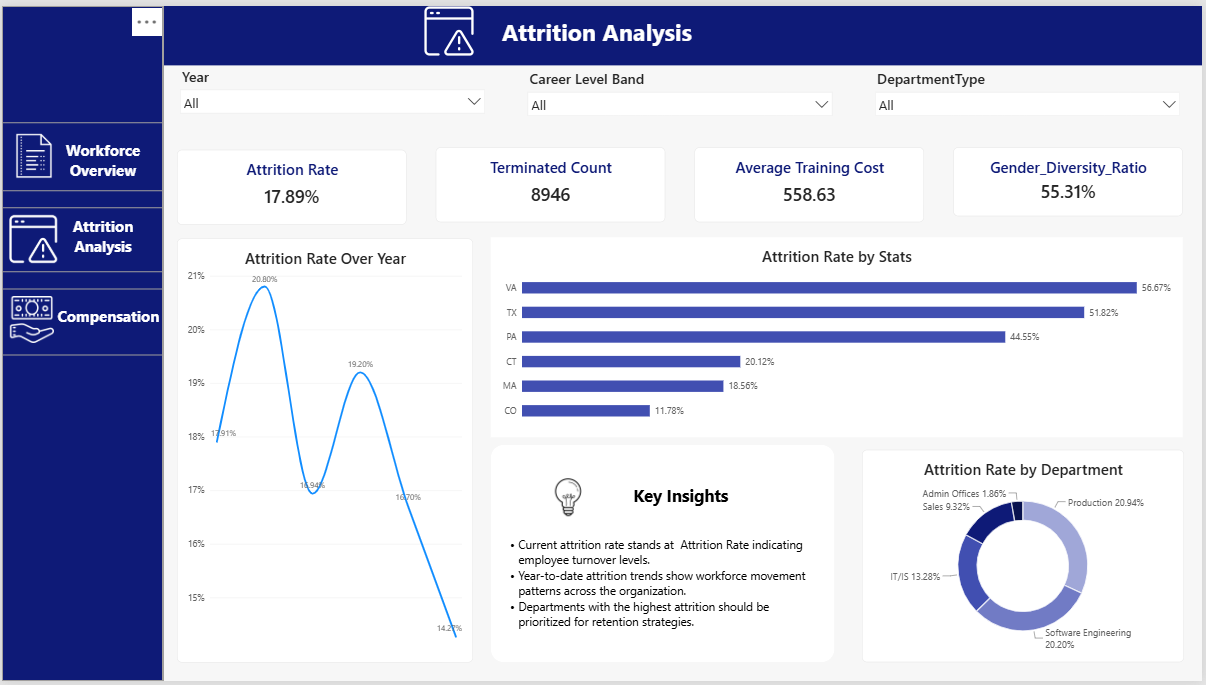

The dashboard page shown, as its layout file describes it:
{"tool":"powerbi","page":{"name":"Attrition Analysis","canvas":[1920,1080],"ordinal":1},"visuals":[{"type":"shape","box":[0,0,1920,95],"z":0,"group":"g1"},{"type":"shape","box":[0,0,257.5,1080],"z":0,"group":"g2"},{"type":"group","id":"g1","title":"top bar","box":[0,0,1920,95],"z":0},{"type":"textbox","box":[742,15,420,65],"z":0,"group":"g3"},{"type":"image","box":[5,190,90,95],"z":0,"group":"g4"},{"type":"image","box":[0,333.7,100,77.5],"z":0,"group":"g6"},{"type":"image","box":[0,465,91.6,75],"z":0,"group":"g5"},{"type":"group","id":"g2","title":"side bar","box":[0,0,260,1080],"z":1000},{"type":"group","id":"g3","title":"Title","box":[647,0,515,80],"z":1000,"group":"g1"},{"type":"image","box":[647,0,135,80],"z":1000,"group":"g3"},{"type":"actionButton","box":[0,185,257.5,105],"z":1000,"group":"g4"},{"type":"group","id":"g4","title":"Workforce Overview","box":[0,185,258.8,110],"z":1000,"group":"g2"},{"type":"actionButton","box":[2.5,321.2,257.5,105],"z":1000,"group":"g6"},{"type":"textbox","box":[85.4,481.2,168.4,62.5],"z":1000,"group":"g5"},{"type":"textbox","box":[63.8,212.5,195,82.5],"z":2000,"group":"g4"},{"type":"card","title":"Gender_Diversity_Ratio","fields":{"Values":["Measure table.→ Gender_Diversity_Ratio"]},"box":[1522.5,225,367.5,110],"z":2000},{"type":"textbox","box":[63.8,335,195,72.5],"z":2000,"group":"g6"},{"type":"group","id":"g5","title":"Compensation","box":[0,452.5,257.5,105],"z":2000,"group":"g2"},{"type":"actionButton","box":[2.5,452.5,255,105],"z":2000,"group":"g5"},{"type":"card","title":"Average Training Cost","fields":{"Values":["Measure table.Avg_Training_Cost"]},"box":[1108.3,225,367.5,120],"z":3000},{"type":"group","id":"g6","title":"Attrition Analysis","box":[0,321.2,260,105],"z":3000,"group":"g2"},{"type":"card","title":"Attrition Rate","fields":{"Values":["Measure table.Attrition_Rate_%"]},"box":[280,230,367.5,120],"z":4000},{"type":"card","title":"Terminated Count","fields":{"Values":["Measure table.Terminated_Count"]},"box":[694.2,225,367.5,120],"z":5000},{"type":"slicer","fields":{"Values":["DimDate.Year"]},"box":[280,95,497.5,90],"z":6000},{"type":"slicer","fields":{"Values":["EmployeeMaster.Career_Level_Band"]},"box":[836.2,100,497.5,90],"z":7000},{"type":"slicer","fields":{"Values":["EmployeeMaster.DepartmentType"]},"box":[1392.5,100,497.5,90],"z":8000},{"type":"lineChart","title":"Attrition Rate Over Year","fields":{"Category":["DimDate.Year"],"Y":["Measure table.Attrition_Rate_%"]},"box":[280,371.7,473.3,678.3],"z":9000},{"type":"donutChart","title":"Attrition Rate by Department","fields":{"Category":["EmployeeMaster.DepartmentType"],"Y":["Measure table.Attrition_Rate_%"]},"box":[1375,710,515,340],"z":10000},{"type":"clusteredBarChart","title":"Attrition Rate by Stats","fields":{"Category":["EmployeeMaster.State"],"Y":["Measure table.Attrition_Rate_%"]},"box":[782.5,370,1107.5,320],"z":11000},{"type":"shape","box":[782,702,550,348],"z":12000,"group":"g7"},{"type":"textbox","box":[986,764,200,42],"z":13000,"group":"g7"},{"type":"image","box":[862,746,86,80],"z":14000,"group":"g7"},{"type":"textbox","box":[797.2,847.6,490,172],"z":15000,"group":"g7"},{"type":"group","id":"g7","title":"Key Insights","box":[782,702,550,348],"z":15001}]}

Visuals, with their boxes on the page's 1920x1080 design canvas (x1, y1, x2, y2). These are canvas units, not pixel positions in the 1206x685 screenshot, which may show the page scaled, cropped or inside an application window:
shape: [0, 0, 1920, 95]
shape: [0, 0, 258, 1080]
"top bar" group: [0, 0, 1920, 95]
textbox: [742, 15, 1162, 80]
image: [5, 190, 95, 285]
image: [0, 334, 100, 411]
image: [0, 465, 92, 540]
"side bar" group: [0, 0, 260, 1080]
"Title" group: [647, 0, 1162, 80]
image: [647, 0, 782, 80]
actionButton: [0, 185, 258, 290]
"Workforce Overview" group: [0, 185, 259, 295]
actionButton: [2, 321, 260, 426]
textbox: [85, 481, 254, 544]
textbox: [64, 212, 259, 295]
"Gender_Diversity_Ratio" card: [1522, 225, 1890, 335]
textbox: [64, 335, 259, 408]
"Compensation" group: [0, 452, 258, 558]
actionButton: [2, 452, 258, 558]
"Average Training Cost" card: [1108, 225, 1476, 345]
"Attrition Analysis" group: [0, 321, 260, 426]
"Attrition Rate" card: [280, 230, 648, 350]
"Terminated Count" card: [694, 225, 1062, 345]
slicer - DimDate.Year: [280, 95, 778, 185]
slicer - EmployeeMaster.Career_Level_Band: [836, 100, 1334, 190]
slicer - EmployeeMaster.DepartmentType: [1392, 100, 1890, 190]
"Attrition Rate Over Year" lineChart: [280, 372, 753, 1050]
"Attrition Rate by Department" donutChart: [1375, 710, 1890, 1050]
"Attrition Rate by Stats" clusteredBarChart: [782, 370, 1890, 690]
shape: [782, 702, 1332, 1050]
textbox: [986, 764, 1186, 806]
image: [862, 746, 948, 826]
textbox: [797, 848, 1287, 1020]
"Key Insights" group: [782, 702, 1332, 1050]
